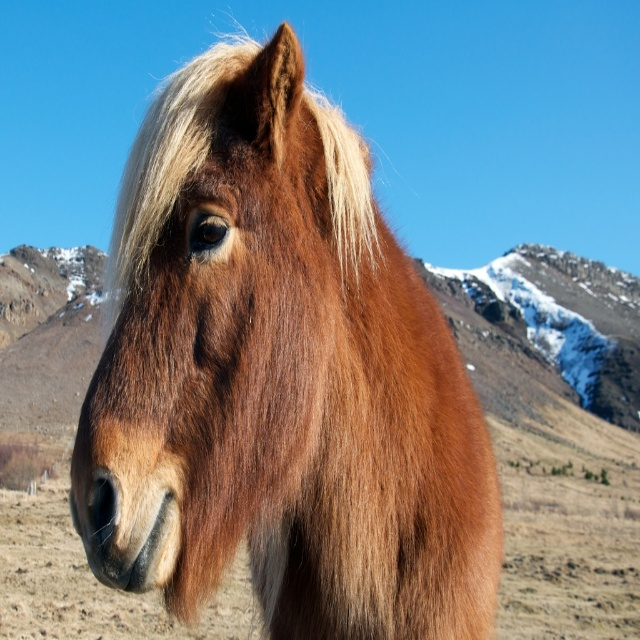Horse: (67, 0, 504, 639)
